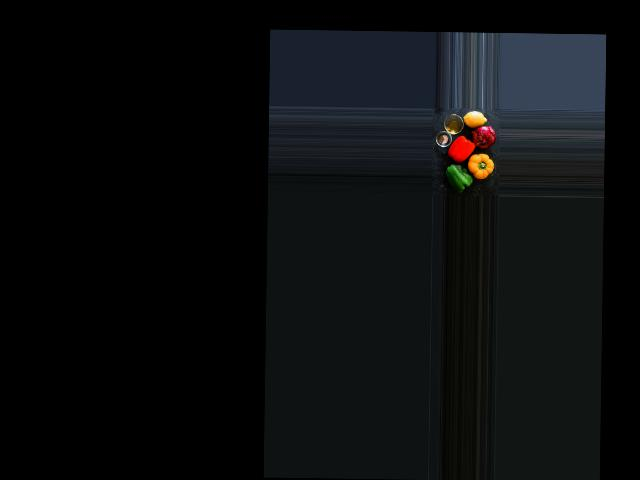bell_pepper: (447, 135, 476, 162)
